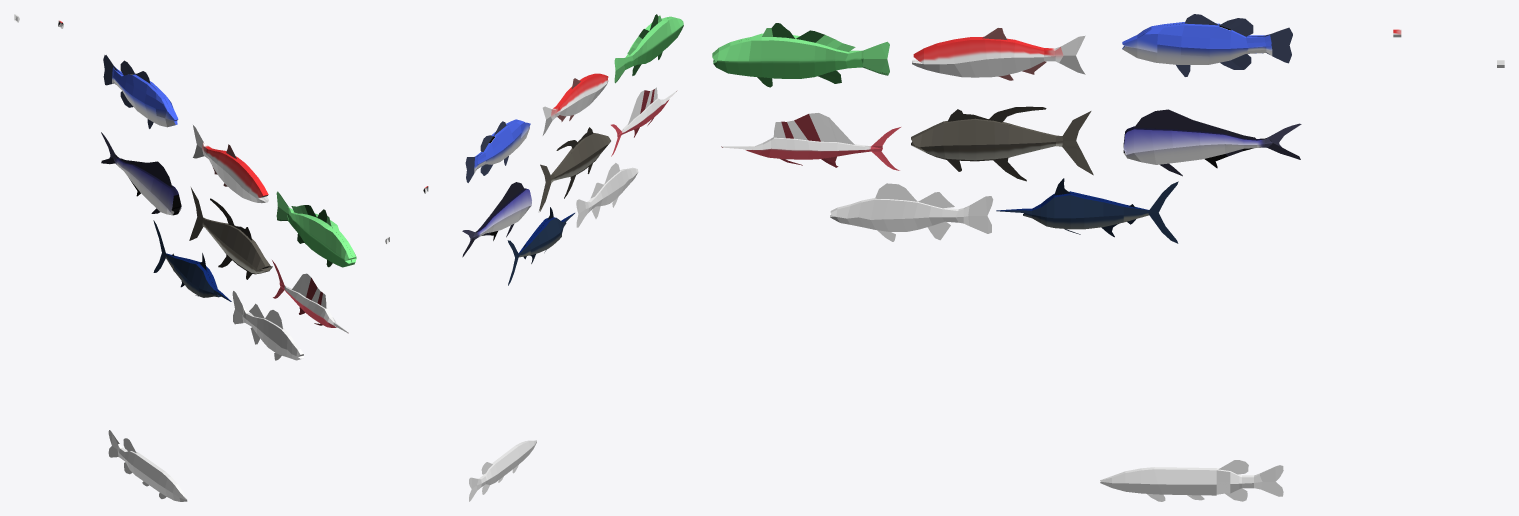
The model's file is free_low_poly_fish_pack.glb.
The picture shows the model from 3 angles, left to right: view 1: azimuth 30°, elevation 25°; view 2: azimuth 150°, elevation 25°; view 3: azimuth 270°, elevation 25°; orthographic projection. The views are drawn at different scales.
Visible parts, largest first — view 1: Cube.006, Cube.002, Cube.005, Cube.010, Cube.009, Cube.004, Cube.003, Cube, Cube.001; view 2: Cube.006, Cube.005, Cube.002, Cube.010, Cube.009, Cube.004, Cube.003, Cube, Cube.001; view 3: Cube.006, Cube.002, Cube.005, Cube.010, Cube.009, Cube.004, Cube.003, Cube.001, Cube.
Boxes of the visible parts, box(x1,y1,x2,y2) form: Cube.006: box(276, 191, 356, 267); Cube.002: box(103, 55, 178, 128); Cube.005: box(189, 187, 272, 279); Cube.010: box(101, 132, 181, 215); Cube.009: box(193, 125, 268, 203); Cube.004: box(232, 291, 303, 360); Cube.003: box(108, 430, 187, 501); Cube: box(153, 220, 231, 301); Cube.001: box(272, 260, 348, 333); Cube.006: box(614, 14, 683, 83); Cube.005: box(539, 127, 610, 211); Cube.002: box(465, 119, 530, 182); Cube.010: box(462, 182, 531, 257); Cube.009: box(542, 73, 608, 135); Cube.004: box(576, 163, 638, 227); Cube.003: box(469, 440, 536, 501); Cube: box(507, 207, 574, 285); Cube.001: box(611, 87, 676, 156); Cube.006: box(712, 23, 889, 87); Cube.002: box(1122, 14, 1292, 76); Cube.005: box(911, 106, 1093, 181); Cube.010: box(1123, 109, 1301, 176); Cube.009: box(912, 28, 1085, 80); Cube.004: box(830, 183, 993, 241); Cube.003: box(1100, 460, 1283, 501); Cube.001: box(721, 113, 900, 170); Cube: box(996, 178, 1178, 243).
Size of the model in its own units: 19.28 by 466 by 687.
Materials: 10 (8 with a texture image).
